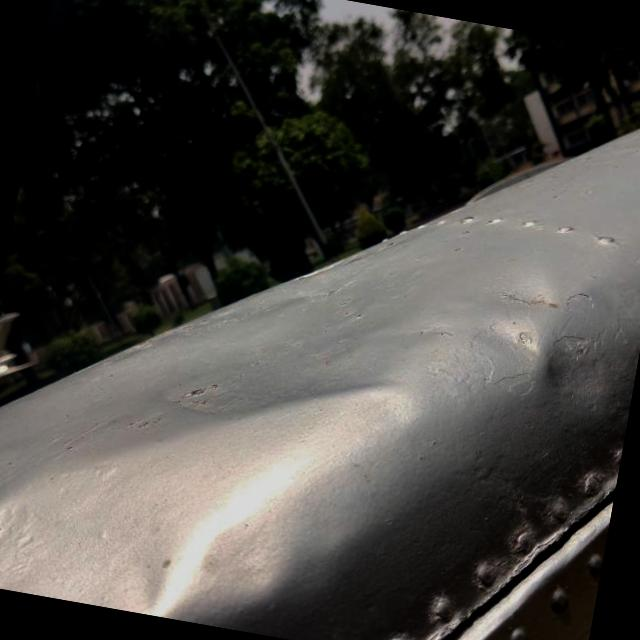dent: (132, 191, 476, 490), (512, 314, 636, 442)
